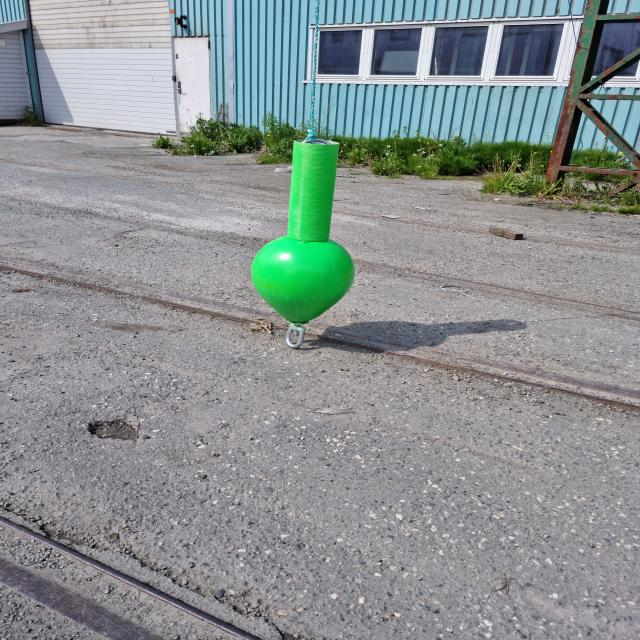green: (251, 140, 356, 324)
